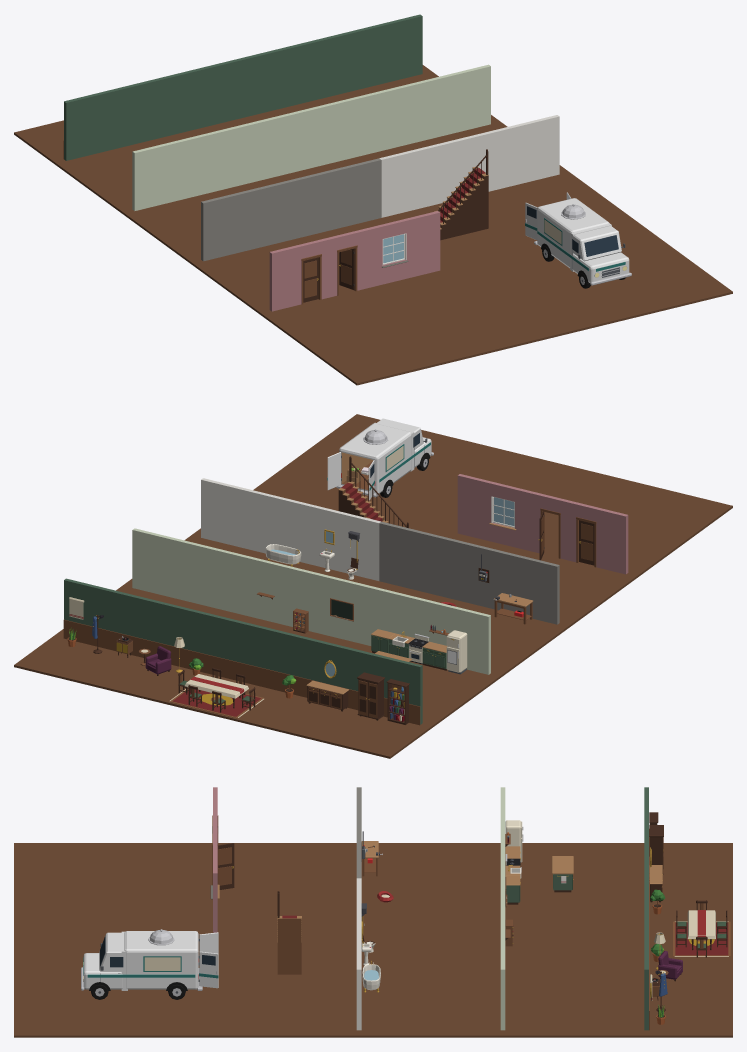
File: furniture_showroom.glb
3 views of the same model, one above another, from view 1: azimuth 30°, elevation 25°; view 2: azimuth 150°, elevation 25°; view 3: azimuth 270°, elevation 25° (orthographic). The views are drawn at different scales.
Visible parts, largest first — view 1: showroom_floor, wall_dining, wall_kitchen, wall_garage, wall_bath, van_body, stairs_body, wall_house_3, wall_house_0, wall_house_2, wall_house_1, leaf_closed_leaf (+1 smaller); view 2: showroom_floor, wall_kitchen, wall_dining, wall_garage, wall_bath, van_body, wainscot_dining, wall_house_3, wall_house_0, wall_house_2, stairs_body, rug_body (+11 smaller); view 3: showroom_floor, van_body, stairs_body, wall_kitchen, wall_dining, rug_body, wall_bath, island_body, leaf_ajar_leaf, van_door_l, table_tablecloth, cupboard_body (+7 smaller).
Boxes of the visible parts, x1,y1,x2,y2 form: showroom_floor: (14, 65, 732, 385); wall_dining: (64, 14, 422, 160); wall_kitchen: (132, 64, 490, 210); wall_garage: (201, 158, 381, 261); wall_bath: (379, 115, 559, 217); van_body: (534, 198, 631, 288); stairs_body: (434, 149, 488, 240); wall_house_3: (404, 211, 440, 278); wall_house_0: (269, 244, 302, 311); wall_house_2: (354, 225, 382, 290); wall_house_1: (318, 236, 338, 299); leaf_closed_leaf: (303, 257, 318, 302); showroom_floor: (14, 414, 732, 758); wall_kitchen: (132, 528, 490, 674); wall_dining: (64, 578, 422, 724); wall_garage: (379, 521, 559, 624); wall_bath: (201, 478, 380, 580); van_body: (336, 418, 433, 497); wainscot_dining: (63, 619, 420, 725); wall_house_3: (457, 474, 492, 541); wall_house_0: (595, 507, 628, 574); wall_house_2: (515, 488, 543, 553); stairs_body: (338, 456, 408, 528); rug_body: (169, 687, 264, 718); showroom_floor: (14, 843, 732, 1037); van_body: (81, 929, 202, 999); stairs_body: (277, 891, 301, 974); wall_kitchen: (500, 787, 505, 1030); wall_dining: (644, 787, 648, 1030); rug_body: (673, 921, 730, 956); wall_bath: (356, 878, 361, 1030); island_body: (552, 856, 573, 892); leaf_ajar_leaf: (218, 843, 234, 889); van_door_l: (198, 951, 218, 988); table_tablecloth: (687, 910, 715, 939); cupboard_body: (649, 825, 663, 874).
Size of the model in its own units: 19 by 3.93 by 30.
1 material, 1 textured.
